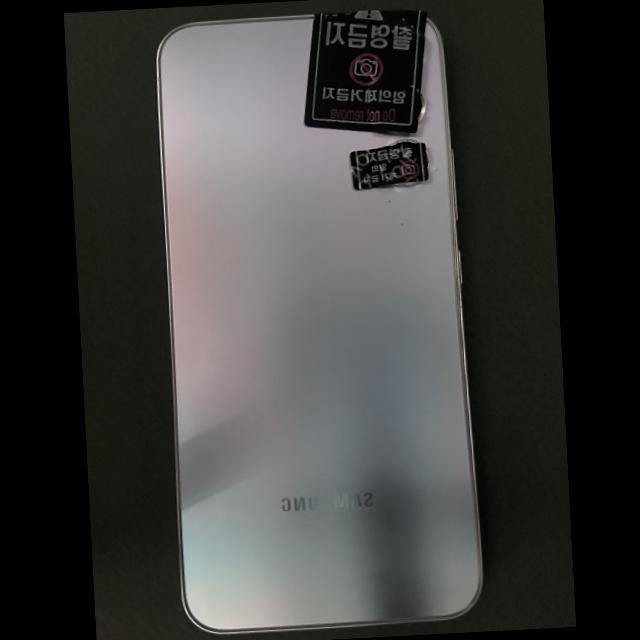lens: (416, 95, 424, 125), (389, 139, 418, 146)
phone: (155, 9, 484, 635)
sticker: (304, 9, 427, 133), (350, 142, 429, 191)
